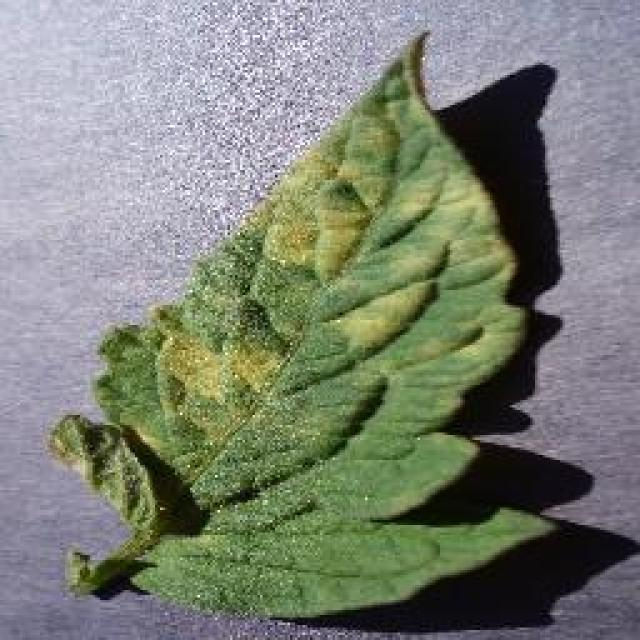Tomato mold leaf: (46, 29, 566, 619)
